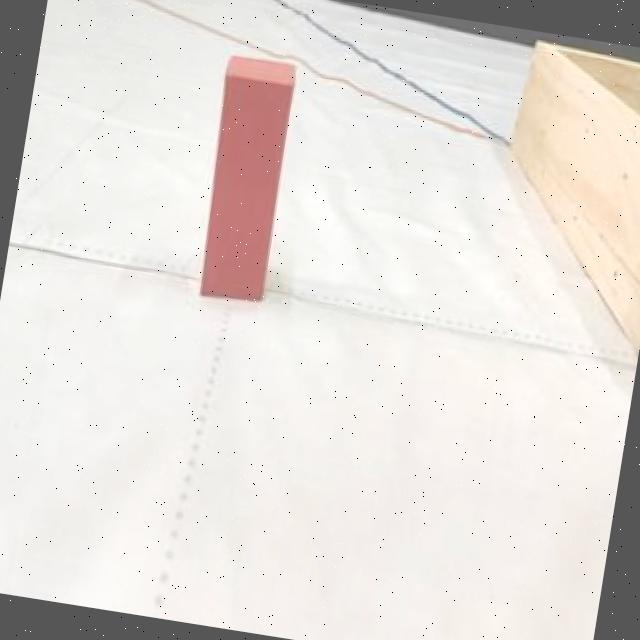redbox: (190, 50, 300, 304)
